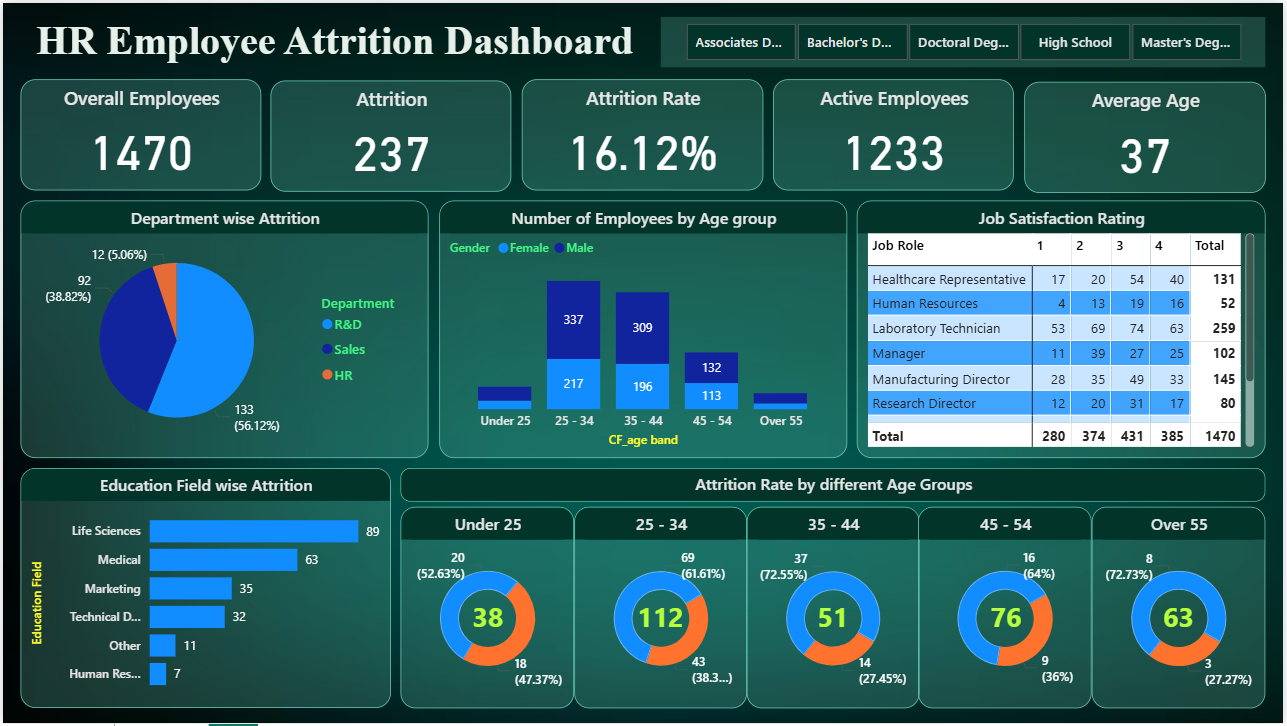

The dashboard page shown, as its layout file describes it:
{"tool":"powerbi","page":{"name":"Page 1","canvas":[1280,720],"ordinal":0},"visuals":[{"type":"card","title":"Overall Employees","fields":{"Values":["Sum(Data.Employee Count)"]},"box":[17.5,76.2,241,111.2],"z":0},{"type":"card","title":"Attrition","fields":{"Values":["Sum(Data.Attrition Count)"]},"box":[267.5,77.5,241,111.2],"z":1000},{"type":"card","title":"Active Employees","fields":{"Values":["Data.Active Employees"]},"box":[770,76.2,241,111.2],"z":2000},{"type":"card","title":"Average Age","fields":{"Values":["Avg(Data.Age)"]},"box":[1021.2,78.8,241.2,111.2],"z":3000},{"type":"card","title":"Attrition Rate","fields":{"Values":["Data.Attrition Rate"]},"box":[518.8,76.2,241.2,111.2],"z":4000},{"type":"pieChart","title":"Department wise Attrition","fields":{"Category":["Data.Department"],"Y":["Sum(Data.Attrition Count)"]},"box":[17.5,197.5,408,257.5],"z":5000},{"type":"columnChart","title":"Number of Employees by Age group","fields":{"Category":["Data.CF_age band"],"Y":["Sum(Data.Employee Count)"],"Series":["Data.Gender"]},"box":[436.2,197.5,408,257.5],"z":6000},{"type":"pivotTable","title":"Job Satisfaction Rating","fields":{"Rows":["Data.Job Role"],"Columns":["Data.Job Satisfaction"],"Values":["Sum(Data.Employee Count)"]},"box":[853.8,197.5,408.8,257.5],"z":7000},{"type":"barChart","title":"Education Field wise Attrition","fields":{"Category":["Data.Education Field"],"Y":["Sum(Data.Attrition Count)"]},"box":[17.5,465,370,240],"z":8000},{"type":"donutChart","title":"Under 25","fields":{"Category":["Data.Gender"],"Y":["Sum(Data.Attrition Count)"],"Series":["Data.CF_age band"]},"box":[397.5,503.8,173.8,201.2],"z":9000},{"type":"textbox","title":"Attrition Rate by different Age Groups","box":[397.5,465,865,33.8],"z":10000},{"type":"donutChart","title":"25 - 34","fields":{"Category":["Data.Gender"],"Y":["Sum(Data.Attrition Count)"],"Series":["Data.CF_age band"]},"box":[571.2,503.8,173,201.2],"z":11000},{"type":"donutChart","title":"35 - 44","fields":{"Category":["Data.Gender"],"Y":["Sum(Data.Attrition Count)"],"Series":["Data.CF_age band"]},"box":[743.8,503.8,172.5,201.2],"z":12000},{"type":"donutChart","title":"45 - 54","fields":{"Category":["Data.Gender"],"Y":["Sum(Data.Attrition Count)"],"Series":["Data.CF_age band"]},"box":[915,503.8,173.8,201.2],"z":13000},{"type":"donutChart","title":"Over 55","fields":{"Category":["Data.Gender"],"Y":["Sum(Data.Attrition Count)"],"Series":["Data.CF_age band"]},"box":[1088.8,503.8,173.8,201.2],"z":14000},{"type":"card","fields":{"Values":["Sum(Data.Attrition Count)"]},"box":[461.2,586.2,47.5,56.2],"z":15000},{"type":"card","fields":{"Values":["Sum(Data.Attrition Count)"]},"box":[628.8,586.2,57.5,56.2],"z":16000},{"type":"card","fields":{"Values":["Sum(Data.Attrition Count)"]},"box":[806.2,586.2,47.5,56.2],"z":17000},{"type":"card","fields":{"Values":["Sum(Data.Attrition Count)"]},"box":[978.8,586.2,48.8,56.2],"z":18000},{"type":"card","fields":{"Values":["Sum(Data.Attrition Count)"]},"box":[1151.2,586.2,48.8,56.2],"z":19000},{"type":"textbox","title":"HR Employee Attrition Dashboard","box":[17.5,13.8,628.8,50],"z":20000},{"type":"slicer","fields":{"Values":["HR_data.Education"]},"box":[657.5,13.8,605,50],"z":21000}]}

Visuals, with their boxes in screenshot pixels (x1, y1, x2, y2), scaled from the page's 1280x720 canvas onto the 1287x726 screenshot:
"Overall Employees" card: region(18, 77, 260, 189)
"Attrition" card: region(269, 78, 511, 190)
"Active Employees" card: region(774, 77, 1017, 189)
"Average Age" card: region(1027, 79, 1269, 192)
"Attrition Rate" card: region(522, 77, 764, 189)
"Department wise Attrition" pieChart: region(18, 199, 428, 459)
"Number of Employees by Age group" columnChart: region(439, 199, 849, 459)
"Job Satisfaction Rating" pivotTable: region(858, 199, 1270, 459)
"Education Field wise Attrition" barChart: region(18, 469, 390, 711)
"Under 25" donutChart: region(400, 508, 574, 711)
"Attrition Rate by different Age Groups" textbox: region(400, 469, 1269, 503)
"25 - 34" donutChart: region(574, 508, 748, 711)
"35 - 44" donutChart: region(748, 508, 921, 711)
"45 - 54" donutChart: region(920, 508, 1095, 711)
"Over 55" donutChart: region(1095, 508, 1270, 711)
card - Sum(Data.Attrition Count): region(464, 591, 511, 648)
card - Sum(Data.Attrition Count): region(632, 591, 690, 648)
card - Sum(Data.Attrition Count): region(811, 591, 858, 648)
card - Sum(Data.Attrition Count): region(984, 591, 1033, 648)
card - Sum(Data.Attrition Count): region(1157, 591, 1207, 648)
"HR Employee Attrition Dashboard" textbox: region(18, 14, 650, 64)
slicer - HR_data.Education: region(661, 14, 1269, 64)
